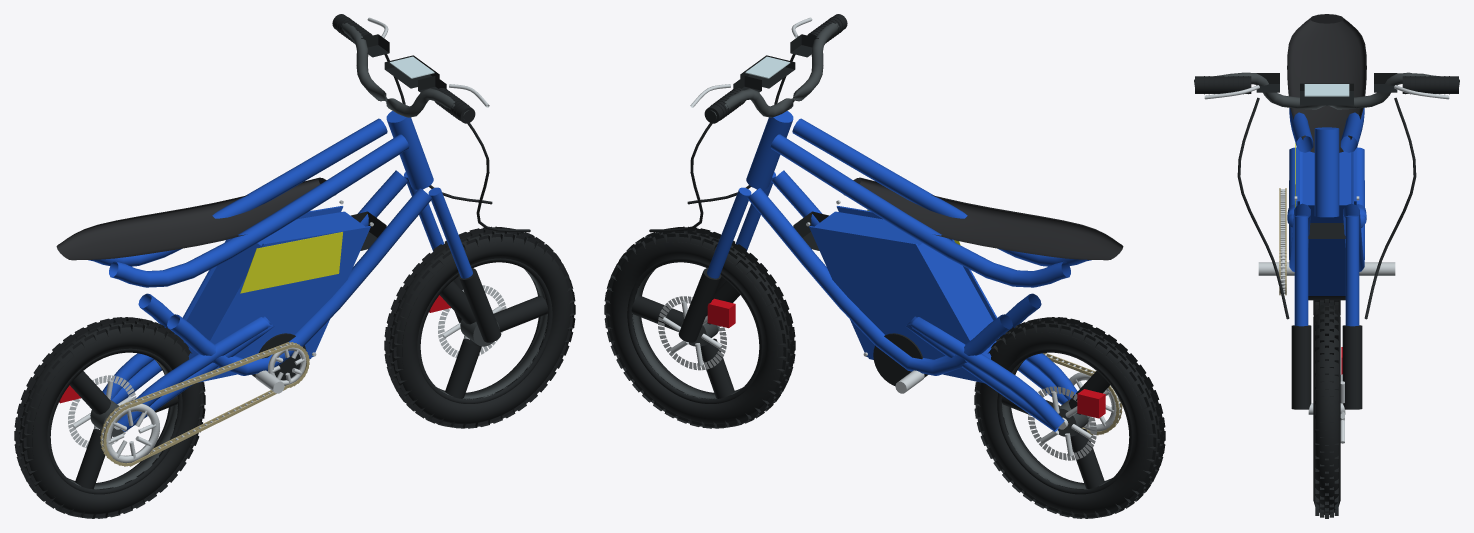
The model's file is arctic-leopard-e-16z.glb.
3 renders of one model, left to right at view 1: azimuth 30°, elevation 25°; view 2: azimuth 150°, elevation 25°; view 3: azimuth 270°, elevation 25°, orthographic. The views are drawn at different scales.
Parts seen in each view (by area): view 1: Chassis | blue, FrontWheel | rubber, RearWheel | rubber, BatteryMount | blue, Bodywork | seat, FrontWheel | black, RearSuspension | blue, RearWheel | black, Bodywork | yellow, Drive | steel, Drive | chain, Cockpit | graphite (+9 smaller); view 2: Chassis | blue, BatteryMount | blue, FrontWheel | rubber, RearWheel | rubber, Bodywork | seat, RearSuspension | blue, FrontWheel | black, RearWheel | black, Cockpit | graphite, Fork | blue, Cockpit | black, Cockpit | rubber (+9 smaller); view 3: Bodywork | seat, Chassis | blue, FrontWheel | rubber, BatteryMount | blue, Fork | black, Cockpit | rubber, Fork | blue, Cockpit | black, Cockpit | graphite, Drive | steel, Cockpit | lens, ControllerMount | black (+3 smaller).
Boxes of the visible parts, x1,y1,x2,y2 form: Chassis | blue: [88, 111, 433, 375]; FrontWheel | rubber: [384, 226, 575, 428]; RearWheel | rubber: [14, 317, 205, 518]; BatteryMount | blue: [180, 206, 370, 382]; Bodywork | seat: [56, 177, 335, 260]; FrontWheel | black: [417, 258, 552, 403]; RearSuspension | blue: [102, 316, 274, 431]; RearWheel | black: [47, 348, 182, 494]; Bodywork | yellow: [240, 232, 342, 293]; Drive | steel: [101, 343, 306, 463]; Drive | chain: [100, 342, 309, 466]; Cockpit | graphite: [341, 23, 468, 119]; Chassis | blue: [746, 111, 1091, 375]; BatteryMount | blue: [809, 206, 999, 383]; FrontWheel | rubber: [604, 226, 795, 428]; RearWheel | rubber: [974, 317, 1165, 518]; Bodywork | seat: [844, 177, 1123, 260]; RearSuspension | blue: [905, 316, 1077, 431]; FrontWheel | black: [627, 258, 762, 403]; RearWheel | black: [997, 348, 1132, 494]; Cockpit | graphite: [711, 23, 838, 119]; Fork | blue: [707, 172, 775, 278]; Cockpit | black: [710, 16, 843, 120]; Cockpit | rubber: [649, 14, 847, 232]; Bodywork | seat: [1287, 14, 1366, 152]; Chassis | blue: [1289, 108, 1364, 271]; FrontWheel | rubber: [1313, 299, 1340, 518]; BatteryMount | blue: [1297, 148, 1356, 295]; Fork | black: [1291, 325, 1362, 409]; Cockpit | rubber: [1195, 76, 1458, 319]; Fork | blue: [1294, 215, 1359, 326]; Cockpit | black: [1204, 73, 1449, 105]; Cockpit | graphite: [1194, 72, 1459, 109]; Drive | steel: [1258, 189, 1395, 294]; Cockpit | lens: [1304, 84, 1349, 96]; ControllerMount | black: [1308, 223, 1345, 238].
Bounding box in the file's own units: 1.35 × 0.8897 × 0.544.
